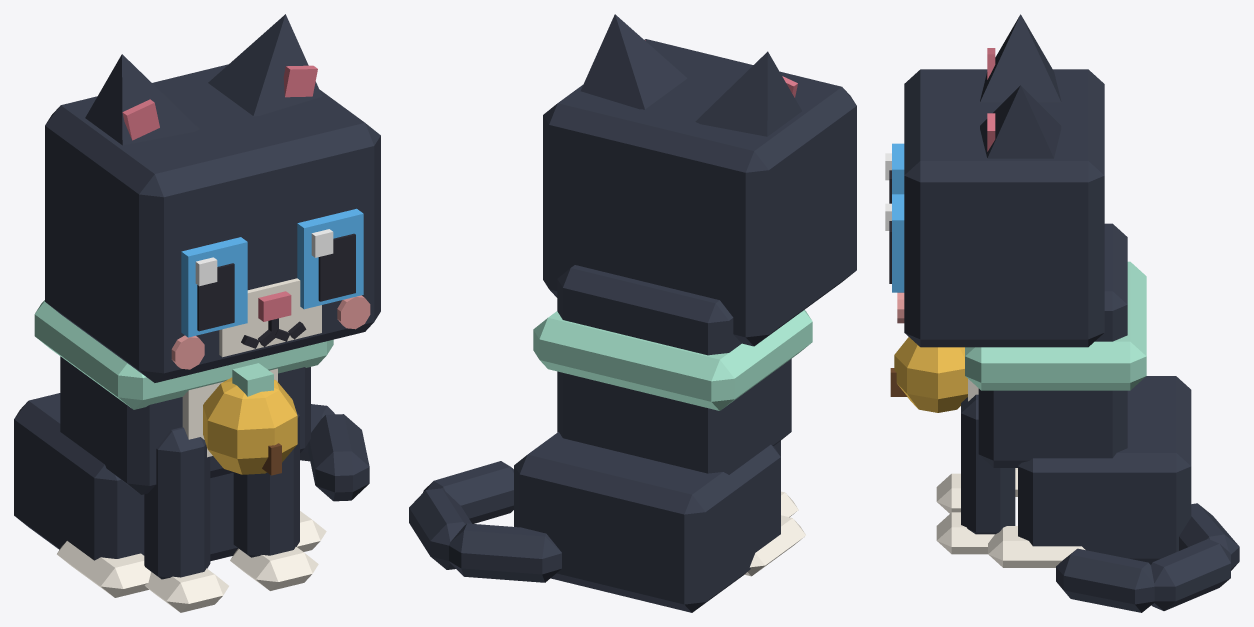
Rendered from CleanACat_Cat_Suds_Sit.fbx.
3 views of the same model, side by side, from view 1: azimuth 30°, elevation 25°; view 2: azimuth 150°, elevation 25°; view 3: azimuth 270°, elevation 25° (orthographic). The views are drawn at different scales.
Parts seen in each view (by area): view 1: CleanACat_Cat_Suds_Sit_Head, CleanACat_Cat_Suds_Sit_Body, CleanACat_Cat_Suds_Sit_Collar, CleanACat_Cat_Suds_Sit_LegF2, CleanACat_Cat_Suds_Sit_LegF1, CleanACat_Cat_Suds_Sit_EarL, CleanACat_Cat_Suds_Sit_Eye2, CleanACat_Cat_Suds_Sit_Eye1, CleanACat_Cat_Suds_Sit_EarR, CleanACat_Cat_Suds_Sit_Tail; view 2: CleanACat_Cat_Suds_Sit_Head, CleanACat_Cat_Suds_Sit_Body, CleanACat_Cat_Suds_Sit_Collar, CleanACat_Cat_Suds_Sit_Tail, CleanACat_Cat_Suds_Sit_EarL, CleanACat_Cat_Suds_Sit_EarR; view 3: CleanACat_Cat_Suds_Sit_Head, CleanACat_Cat_Suds_Sit_Body, CleanACat_Cat_Suds_Sit_Collar, CleanACat_Cat_Suds_Sit_Tail, CleanACat_Cat_Suds_Sit_LegF1, CleanACat_Cat_Suds_Sit_EarL, CleanACat_Cat_Suds_Sit_EarR, CleanACat_Cat_Suds_Sit_Eye1, CleanACat_Cat_Suds_Sit_Eye2, CleanACat_Cat_Suds_Sit_LegF2.
Boxes of the visible parts, x1,y1,x2,y2 form: CleanACat_Cat_Suds_Sit_Head: [45, 64, 380, 382]; CleanACat_Cat_Suds_Sit_Body: [14, 356, 326, 597]; CleanACat_Cat_Suds_Sit_Collar: [34, 300, 333, 475]; CleanACat_Cat_Suds_Sit_LegF2: [144, 427, 228, 612]; CleanACat_Cat_Suds_Sit_LegF1: [230, 413, 318, 590]; CleanACat_Cat_Suds_Sit_EarL: [208, 14, 322, 116]; CleanACat_Cat_Suds_Sit_Eye2: [181, 237, 247, 337]; CleanACat_Cat_Suds_Sit_Eye1: [297, 208, 363, 309]; CleanACat_Cat_Suds_Sit_EarR: [85, 54, 199, 145]; CleanACat_Cat_Suds_Sit_Tail: [300, 404, 369, 501]; CleanACat_Cat_Suds_Sit_Head: [543, 39, 856, 346]; CleanACat_Cat_Suds_Sit_Body: [514, 265, 805, 612]; CleanACat_Cat_Suds_Sit_Collar: [533, 310, 812, 410]; CleanACat_Cat_Suds_Sit_Tail: [409, 461, 561, 582]; CleanACat_Cat_Suds_Sit_EarL: [580, 14, 687, 109]; CleanACat_Cat_Suds_Sit_EarR: [695, 51, 801, 136]; CleanACat_Cat_Suds_Sit_Head: [897, 69, 1104, 347]; CleanACat_Cat_Suds_Sit_Body: [968, 223, 1191, 567]; CleanACat_Cat_Suds_Sit_Collar: [890, 261, 1146, 412]; CleanACat_Cat_Suds_Sit_Tail: [1056, 503, 1239, 612]; CleanACat_Cat_Suds_Sit_LegF1: [936, 394, 1015, 554]; CleanACat_Cat_Suds_Sit_EarL: [980, 85, 1061, 158]; CleanACat_Cat_Suds_Sit_EarR: [980, 14, 1061, 102]; CleanACat_Cat_Suds_Sit_Eye1: [885, 194, 904, 292]; CleanACat_Cat_Suds_Sit_Eye2: [885, 143, 904, 203]; CleanACat_Cat_Suds_Sit_LegF2: [936, 473, 960, 513].
Bounding box in the file's own units: 1.24 × 1.85 × 1.24.
1 material, 1 textured.
